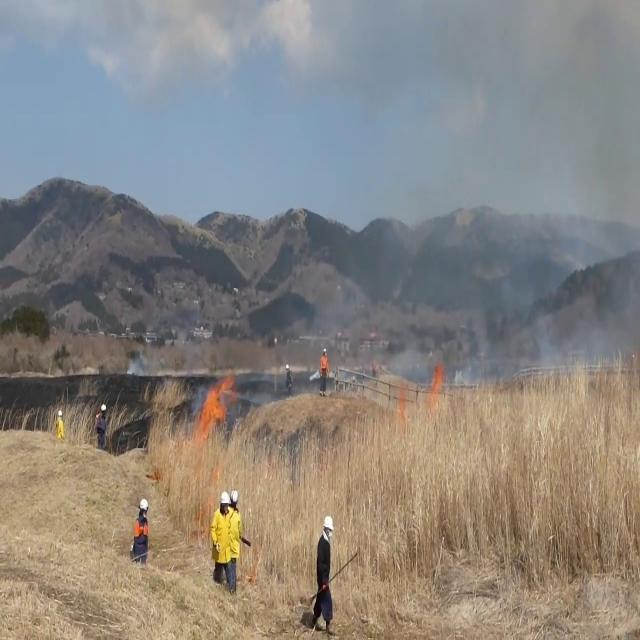Fire: (200, 365, 238, 435), (429, 356, 447, 399)
Smoke: (309, 34, 640, 395)
